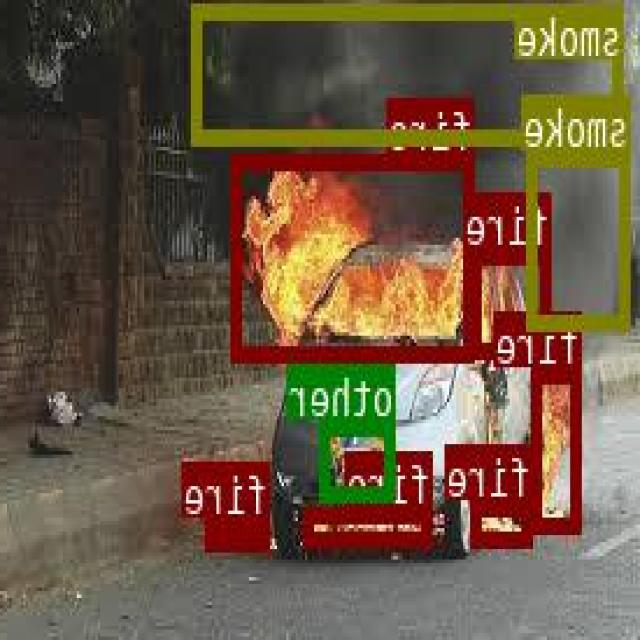fire: (235, 152, 476, 360), (474, 246, 553, 356), (533, 366, 583, 530), (306, 506, 434, 542), (473, 498, 534, 545), (209, 518, 271, 546)
other: (323, 419, 396, 497)
smoke: (195, 2, 624, 142), (528, 150, 633, 328)
